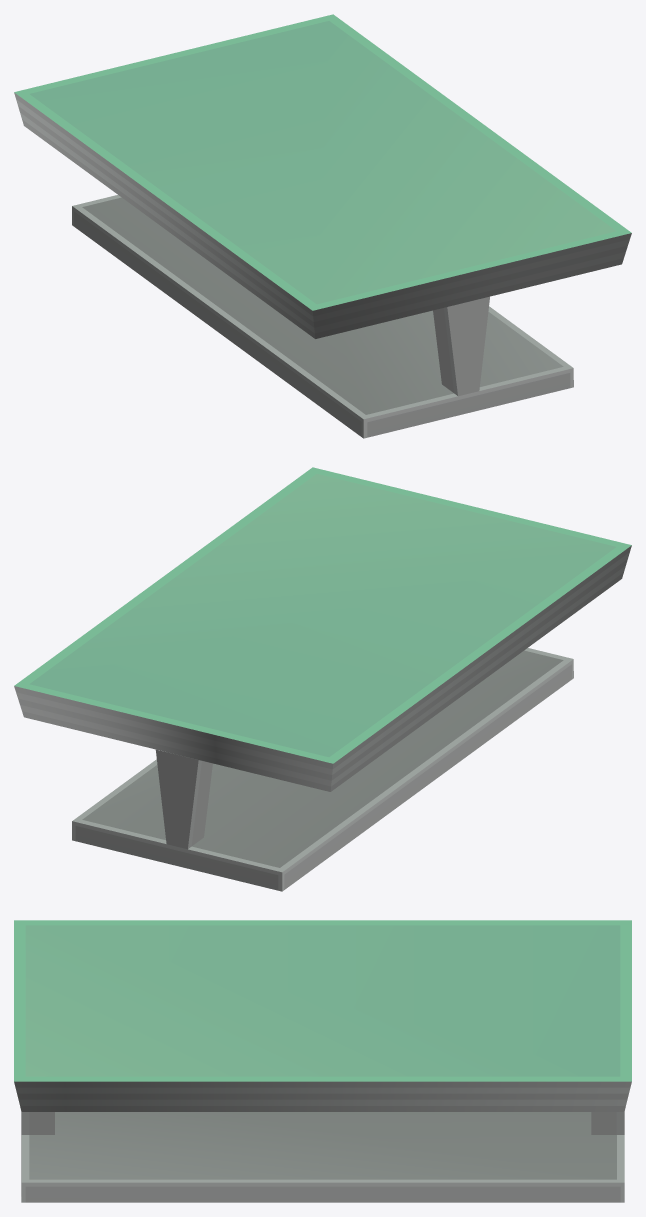
Rendered from RestaurantTable_0.glb.
3 views of the same model, one above another, from view 1: azimuth 30°, elevation 25°; view 2: azimuth 150°, elevation 25°; view 3: azimuth 270°, elevation 25° (orthographic). The views are drawn at different scales.
Parts seen in each view (by area): view 1: RestaurantTable; view 2: RestaurantTable; view 3: RestaurantTable.
Boxes of the visible parts, x1=… form: RestaurantTable: x1=14, y1=14, x2=631, y2=438; RestaurantTable: x1=14, y1=467, x2=631, y2=891; RestaurantTable: x1=14, y1=920, x2=631, y2=1202.
Bounding box in the file's own units: 1.04 × 0.4491 × 1.69.
